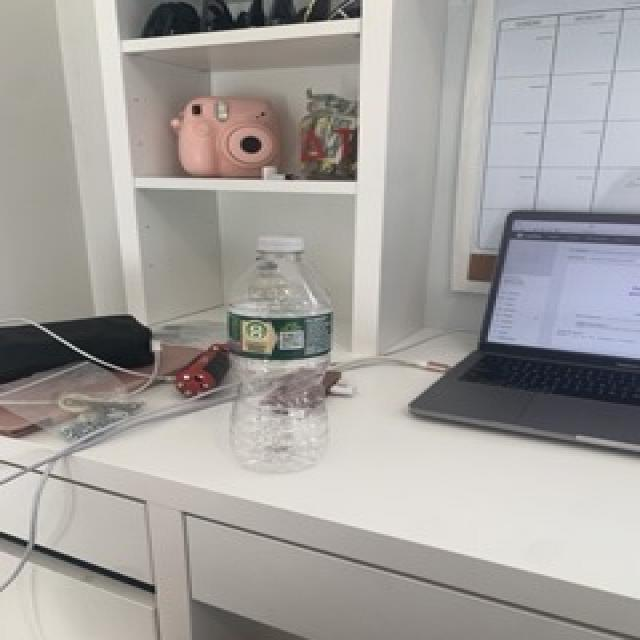water_bottle: (219, 231, 342, 479)
